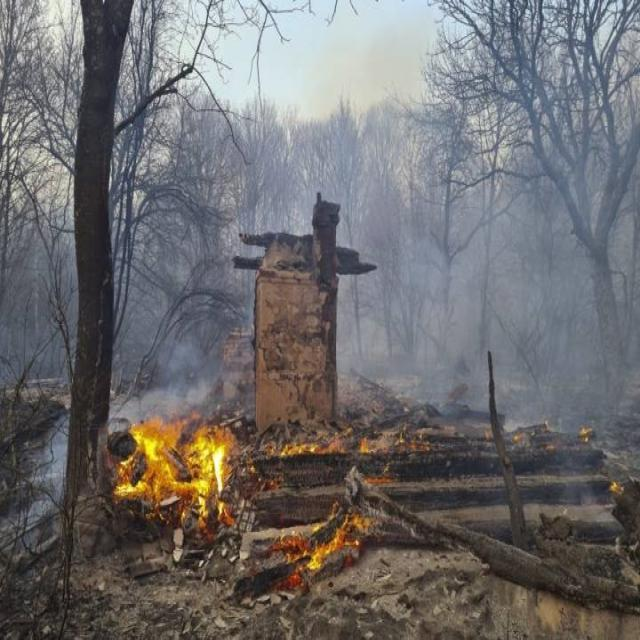Fire: (114, 419, 238, 537), (253, 430, 408, 472), (283, 514, 372, 571), (610, 481, 626, 498), (580, 427, 596, 442)
Smoke: (338, 145, 638, 412), (112, 216, 229, 415)
